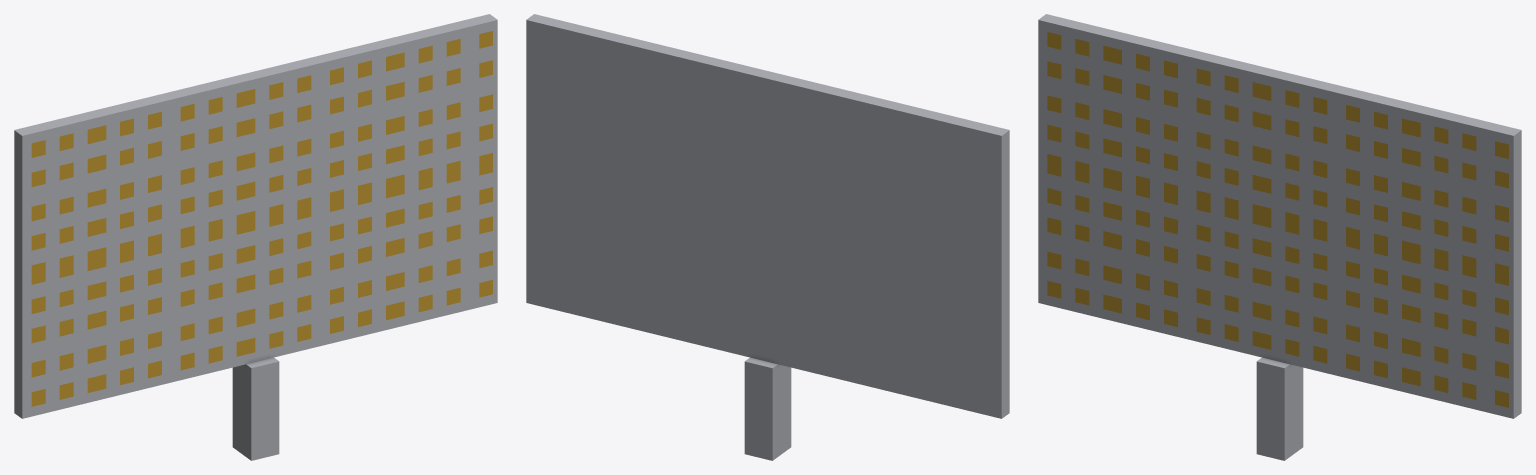
File: inst_radar.glb
3 renders of one model, left to right at view 1: azimuth 30°, elevation 25°; view 2: azimuth 150°, elevation 25°; view 3: azimuth 330°, elevation 25°, orthographic.
Parts seen in each view (by area): view 1: inst_radar; view 2: inst_radar; view 3: inst_radar.
Part boxes in pixels (<box>): inst_radar: <box>14,14,497,460</box>; inst_radar: <box>526,14,1009,460</box>; inst_radar: <box>1038,14,1521,460</box>.
Size of the model in its own units: 1.59 by 1.2 by 0.1094.
